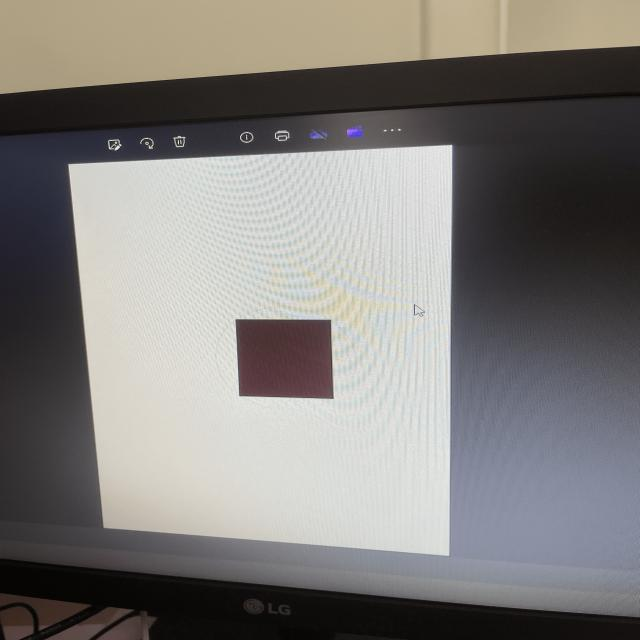QuadradoVinho: (234, 318, 334, 399)
